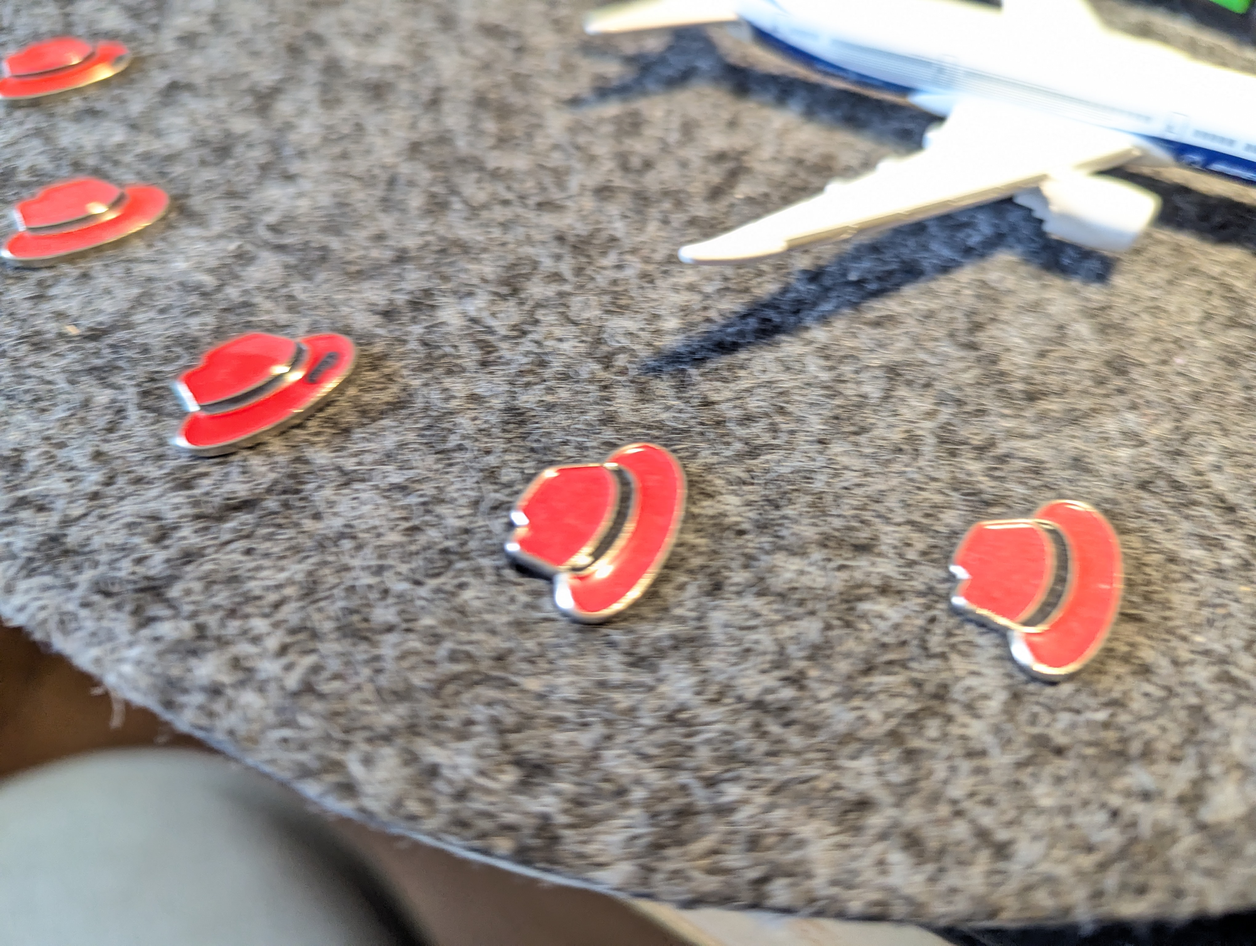Airplane: (532, 0, 1256, 310)
Red-Hat: (488, 419, 727, 684), (936, 470, 1162, 719), (149, 304, 374, 500), (0, 151, 188, 286), (0, 24, 169, 147)
Scratch: (297, 342, 370, 405), (105, 39, 147, 86)
